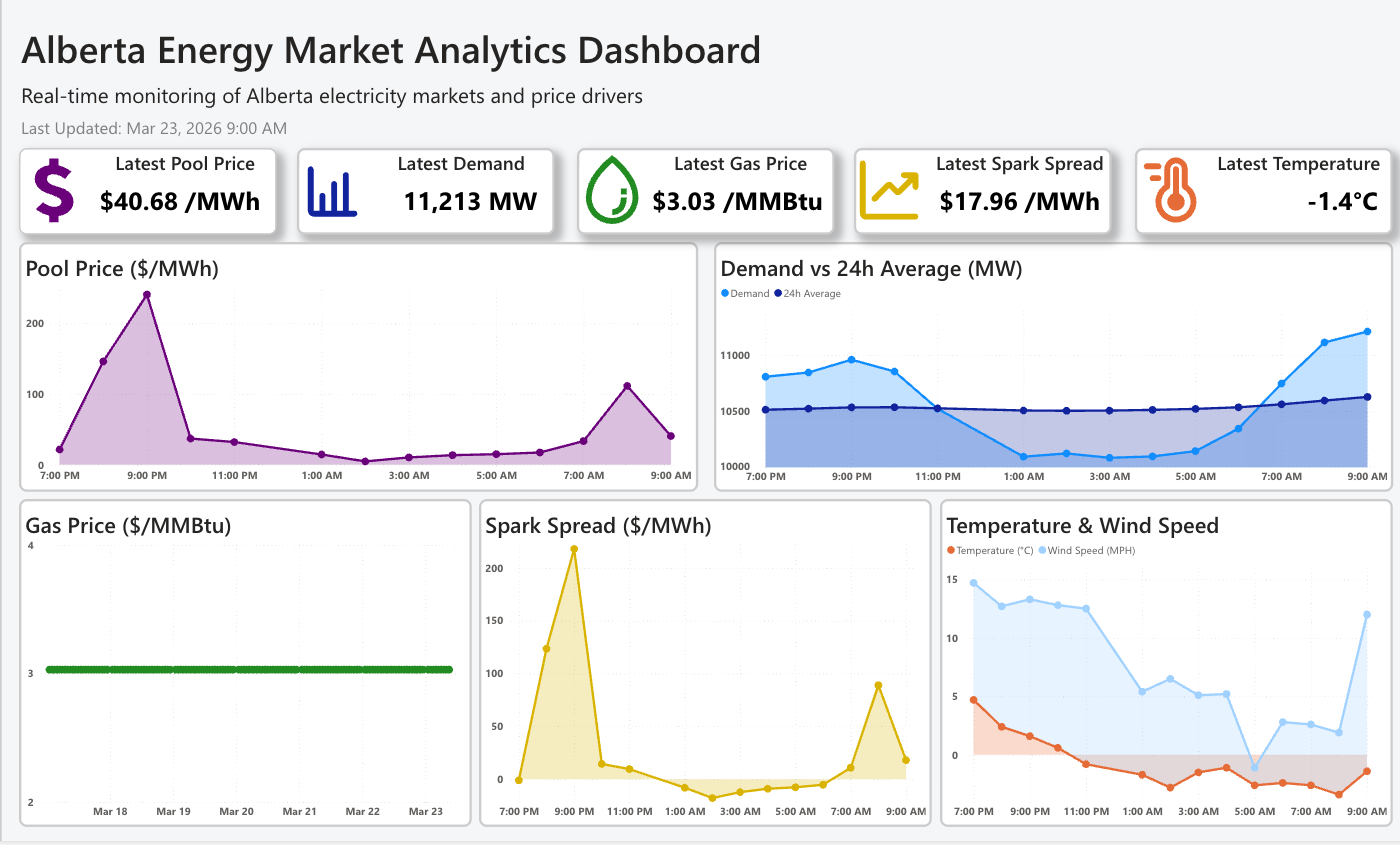

Layout of this report page (visuals, bound fields, positions):
{"tool":"powerbi","page":{"name":"Page 1","canvas":[1920,1080],"ordinal":0},"visuals":[{"type":"shape","box":[0,0,120,1080],"z":0},{"type":"textbox","box":[140,25,1000,75],"z":1000},{"type":"textbox","box":[140,100,900,50],"z":2000},{"type":"cardVisual","title":"Latest Pool Price","fields":{"Data":["Query.Latest Pool Price"]},"box":[142.2,192,330,110.8],"z":3000},{"type":"cardVisual","title":"Latest Demand","fields":{"Data":["Query.Latest Demand"]},"box":[498.4,192,330,110.6],"z":4000},{"type":"areaChart","title":"Pool Price ($/MWh)","fields":{"Category":["Query.datetime_he"],"Y":["Avg(Query.pool_price)"]},"box":[141.7,312,870,320],"z":7000},{"type":"areaChart","title":"Demand vs 24h Average (MW)","fields":{"Category":["Query.datetime_he"],"Y":["Avg(Query.demand_mw)","Avg(Query.demand_24h_avg)"]},"box":[1032.1,312,870,320],"z":8000},{"type":"stackedAreaChart","title":"Temperature & Wind Speed","fields":{"Category":["Query.datetime_he"],"Y":["Avg(Query.temperature_c)","Avg(Query.wind_speed_mps)"]},"box":[1322,642,580,420],"z":9000},{"type":"stackedAreaChart","title":"Spark Spread ($/MWh)","fields":{"Category":["Query.datetime_he"],"Y":["Sum(Query.spark_spread)"]},"box":[731.7,642,580,420],"z":10000},{"type":"lineChart","title":"Gas Price ($/MMBtu)","fields":{"Category":["Query.datetime_he"],"Y":["Avg(Query.gas_price)"]},"box":[141.7,642,580,420],"z":11000},{"type":"textbox","box":[140,130,500,60],"z":12000},{"type":"image","box":[142.2,193.8,90,105.2],"z":13000},{"type":"image","box":[500.7,193.7,90.5,105.2],"z":16000},{"type":"textbox","box":[232.6,190.2,243.7,49.8],"z":18000},{"type":"textbox","box":[590.8,190.2,236.3,49.8],"z":19000},{"type":"cardVisual","title":"Latest Demand","fields":{"Data":["Query.Latest Gas Price"]},"box":[856.6,192,330.5,110.8],"z":20000},{"type":"image","box":[856.6,193.8,90.5,105.2],"z":20001},{"type":"cardVisual","title":"Latest Demand","fields":{"Data":["Query.Latest Spark Spread"]},"box":[1211.1,192,330.5,110.8],"z":20002},{"type":"image","box":[1211.1,193.8,90.5,105.2],"z":20003},{"type":"cardVisual","title":"Latest Demand","fields":{"Data":["Query.Latest Temperature"]},"box":[1571.1,192,330.5,110.8],"z":20004},{"type":"image","box":[1571.1,193.8,90.5,105.2],"z":20005},{"type":"textbox","box":[947.1,190,240,49.8],"z":20006},{"type":"textbox","box":[1301.5,190.2,245.5,49.8],"z":20007},{"type":"textbox","box":[1661.5,190.2,240,55.4],"z":20008}]}

Visuals, with their boxes in screenshot pixels (x1, y1, x2, y2):
shape: crop(18, 26, 101, 775)
textbox: crop(115, 43, 809, 95)
textbox: crop(115, 95, 740, 130)
"Latest Pool Price" cardVisual: crop(117, 159, 346, 236)
"Latest Demand" cardVisual: crop(364, 159, 593, 235)
"Pool Price ($/MWh)" areaChart: crop(117, 242, 720, 464)
"Demand vs 24h Average (MW)" areaChart: crop(734, 242, 1338, 464)
"Temperature & Wind Speed" stackedAreaChart: crop(935, 471, 1337, 762)
"Spark Spread ($/MWh)" stackedAreaChart: crop(526, 471, 928, 762)
"Gas Price ($/MMBtu)" lineChart: crop(117, 471, 519, 762)
textbox: crop(115, 116, 462, 157)
image: crop(117, 160, 179, 233)
image: crop(366, 160, 428, 233)
textbox: crop(180, 157, 349, 192)
textbox: crop(428, 157, 592, 192)
"Latest Demand" cardVisual: crop(612, 159, 842, 236)
image: crop(612, 160, 675, 233)
"Latest Demand" cardVisual: crop(858, 159, 1087, 236)
image: crop(858, 160, 921, 233)
"Latest Demand" cardVisual: crop(1108, 159, 1337, 236)
image: crop(1108, 160, 1171, 233)
textbox: crop(675, 157, 842, 192)
textbox: crop(921, 157, 1091, 192)
textbox: crop(1171, 157, 1337, 196)
